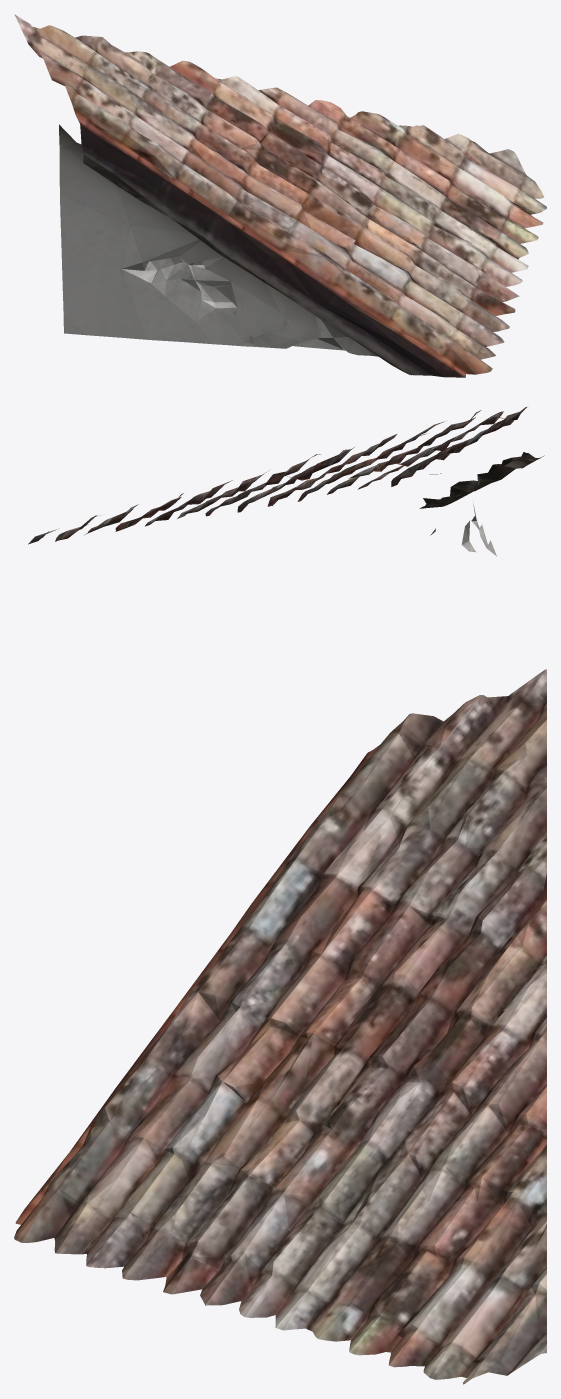
The picture shows the model from 3 angles, top to bottom: view 1: azimuth 30°, elevation 25°; view 2: azimuth 150°, elevation 25°; view 3: azimuth 270°, elevation 25°; orthographic projection. The views are drawn at different scales.
Bounding box in the file's own units: 3.35 × 1.81 × 2.28.
Materials: 2 (2 with a texture image).
